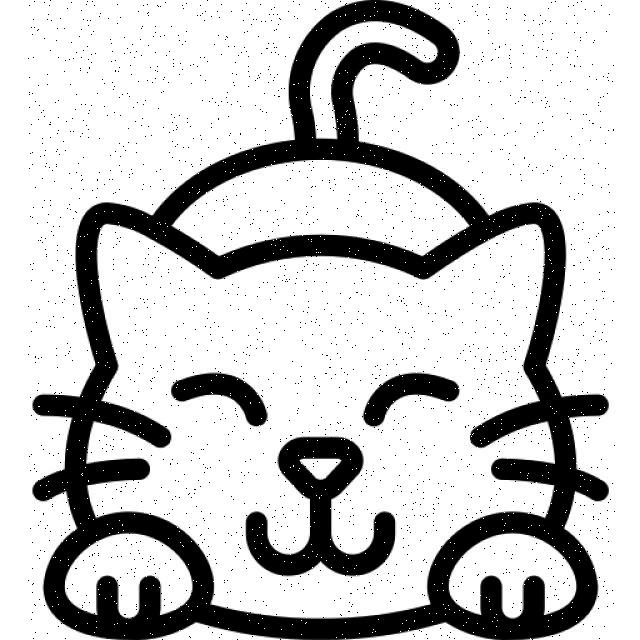cat: (29, 1, 616, 640)
